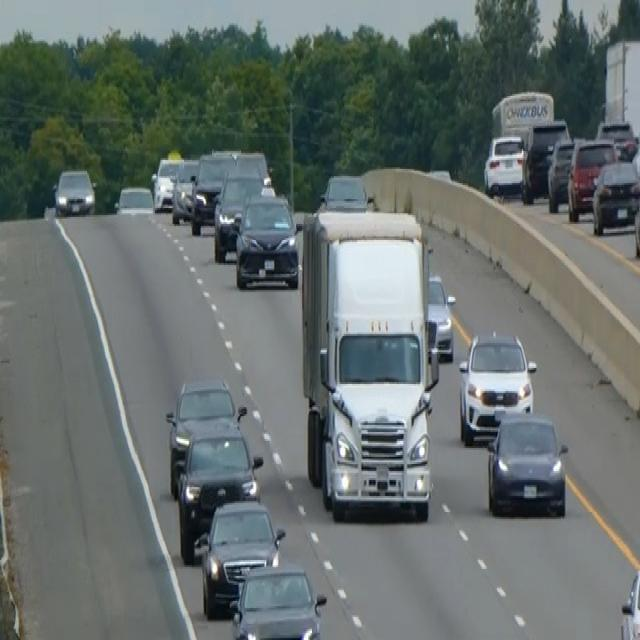car: (174, 422, 263, 564), (194, 496, 285, 619), (164, 374, 244, 494), (457, 327, 536, 445), (485, 409, 569, 517), (229, 562, 327, 638), (234, 192, 300, 290), (212, 166, 271, 262), (566, 135, 617, 221), (521, 117, 570, 201), (189, 147, 236, 233), (591, 156, 639, 234), (483, 132, 526, 196), (426, 272, 455, 361), (546, 135, 575, 212), (318, 170, 370, 212), (53, 167, 95, 217), (170, 156, 199, 224), (150, 154, 182, 212), (596, 117, 636, 160), (233, 148, 271, 186), (619, 566, 639, 638), (113, 183, 154, 213), (632, 186, 639, 258)
lorry: (298, 204, 440, 521)
